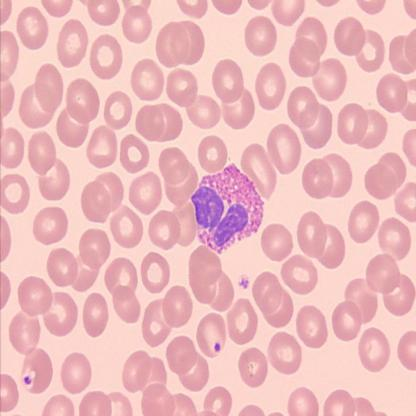Eosinophil: (191, 164, 266, 254)
